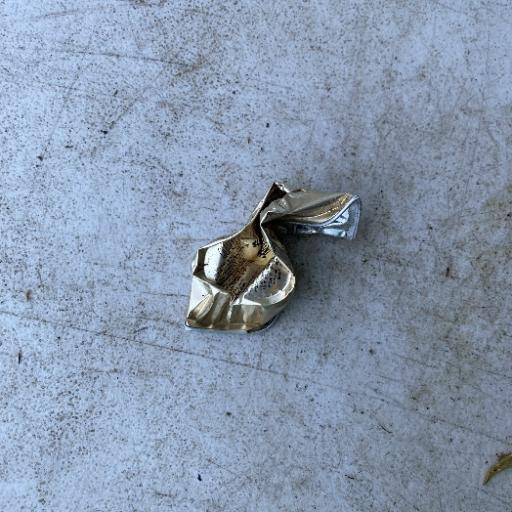Metal: (182, 179, 362, 334)
